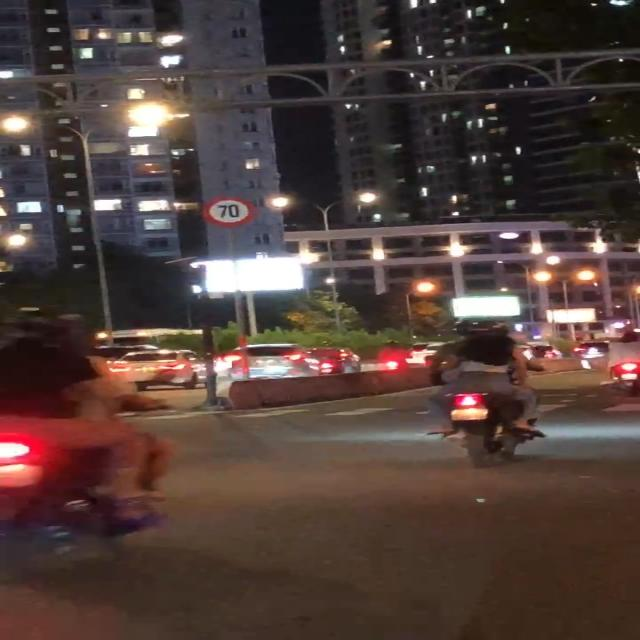Bien bao toc do toi da cho phep: (200, 194, 266, 230)
